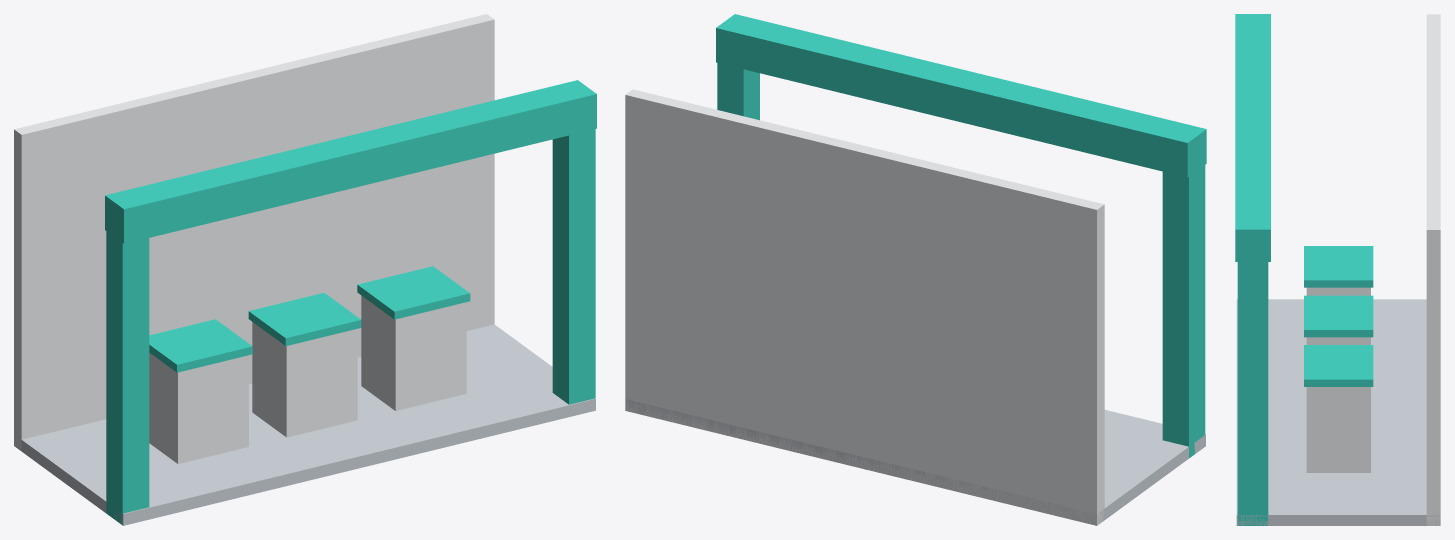
3 renders of one model, left to right at view 1: azimuth 30°, elevation 25°; view 2: azimuth 150°, elevation 25°; view 3: azimuth 270°, elevation 25°, orthographic. The views are drawn at different scales.
Visible parts, largest first — view 1: Exhibition Booth Concept; view 2: Exhibition Booth Concept; view 3: Exhibition Booth Concept.
Boxes of the visible parts, bbox=[...] form: Exhibition Booth Concept: bbox=[14, 14, 596, 525]; Exhibition Booth Concept: bbox=[625, 14, 1206, 525]; Exhibition Booth Concept: bbox=[1235, 14, 1440, 525].
Size of the model in its own units: 5 by 3.2 by 2.01.
